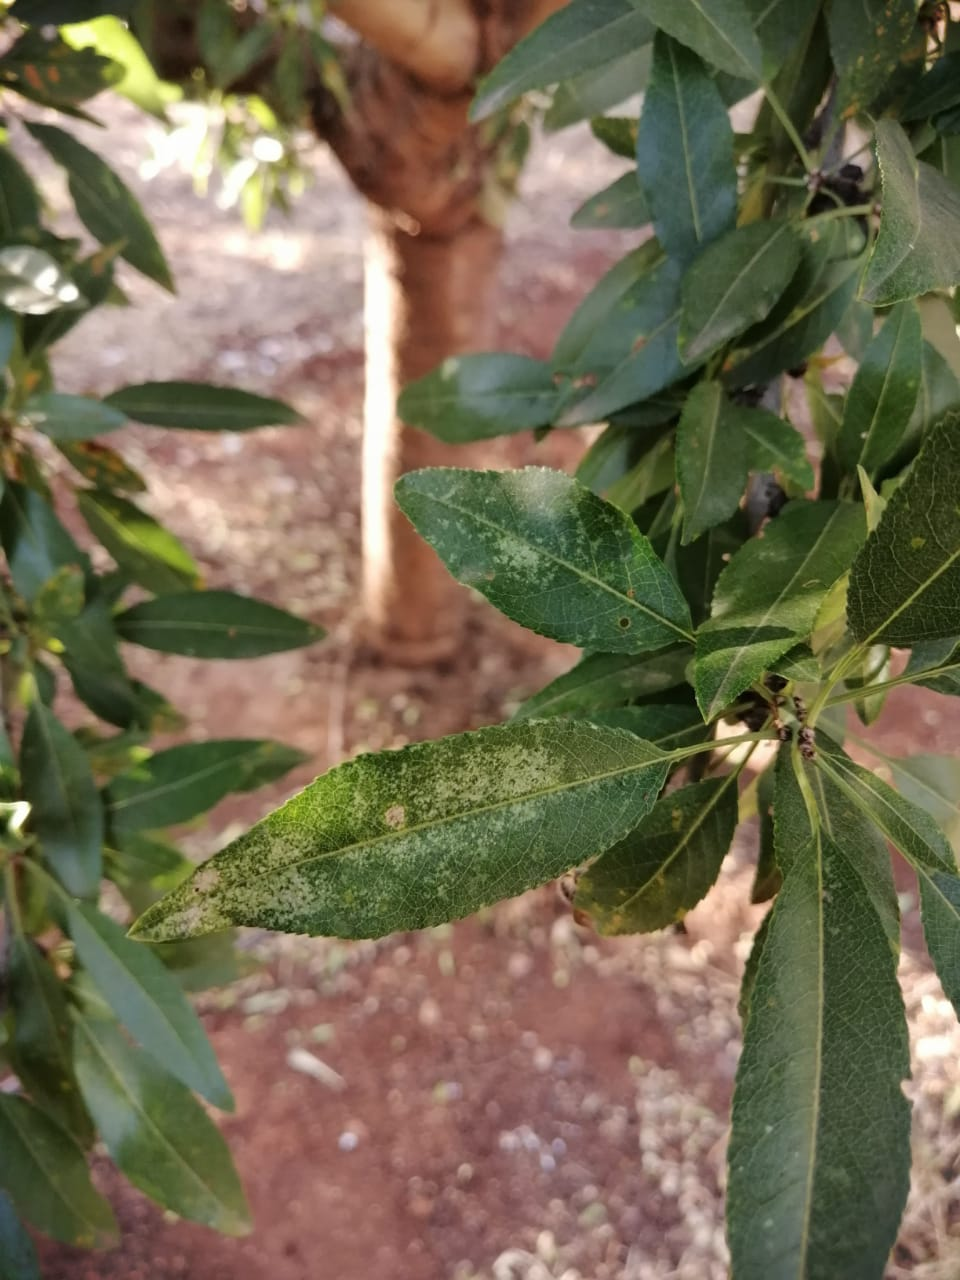faux tigre: (125, 715, 674, 941), (726, 829, 910, 1277), (391, 467, 696, 656)
